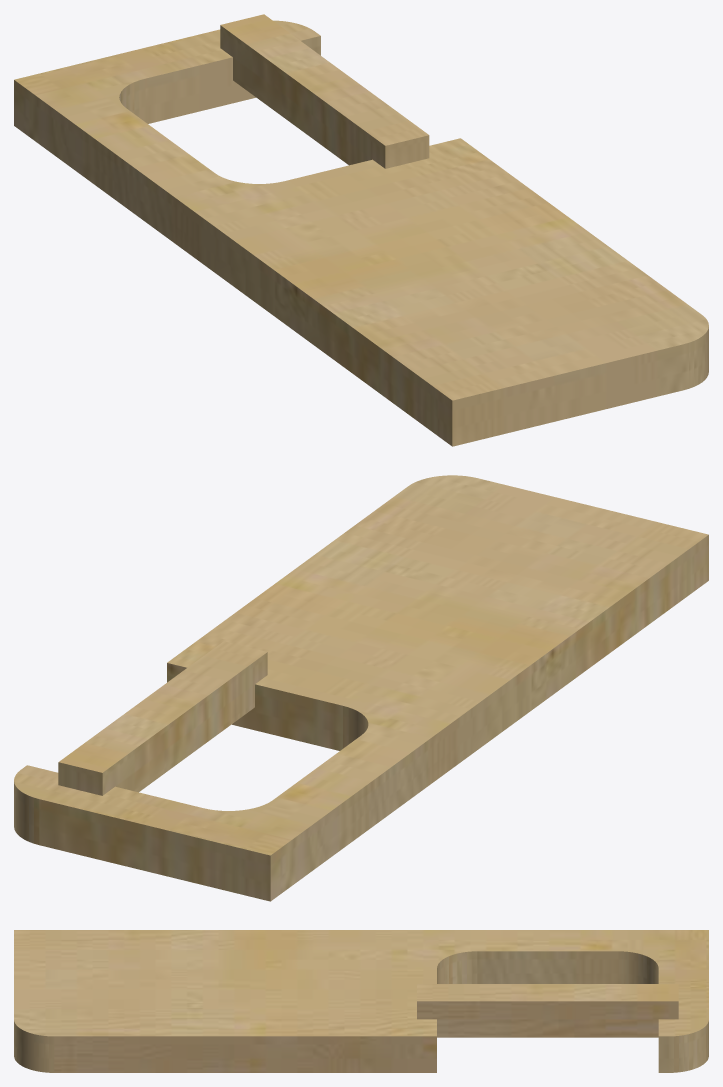
Rendered from porta-rollo-bano.glb.
The picture shows the model from 3 angles, top to bottom: view 1: azimuth 30°, elevation 25°; view 2: azimuth 150°, elevation 25°; view 3: azimuth 270°, elevation 25°; orthographic projection. The views are drawn at different scales.
Size of the model in its own units: 0.125 by 0.03 by 0.345.
2 materials, 2 textured.
